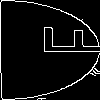F: (25, 25, 100, 56)
